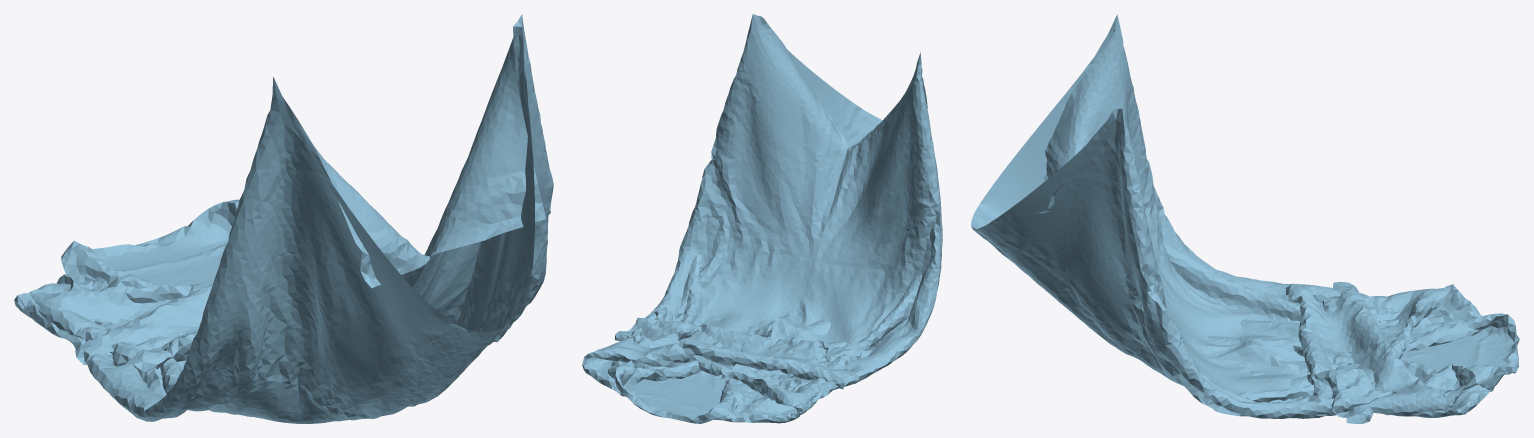
Rendered from frame_08.glb.
3 views of the same model, side by side, from view 1: azimuth 30°, elevation 25°; view 2: azimuth 150°, elevation 25°; view 3: azimuth 270°, elevation 25° (orthographic). The views are drawn at different scales.
Parts seen in each view (by area): view 1: frame_08.obj; view 2: frame_08.obj; view 3: frame_08.obj.
Boxes of the visible parts, x1,y1,x2,y2 form: frame_08.obj: [14, 14, 553, 423]; frame_08.obj: [582, 14, 942, 423]; frame_08.obj: [971, 14, 1519, 423].
Bounding box in the file's own units: 0.9233 × 0.9338 × 1.54.
